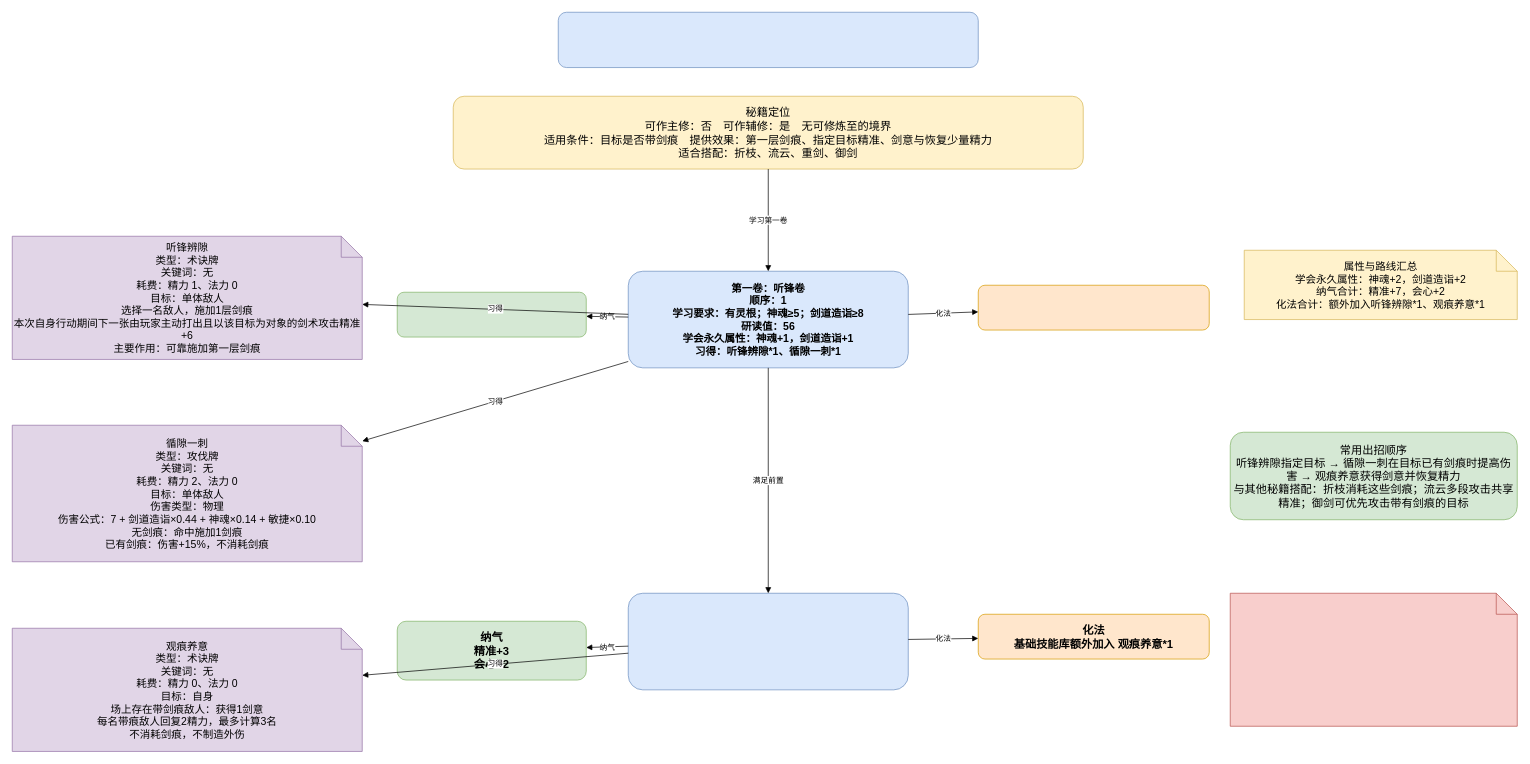
The diagram is 1530 pixels wide and 764 high, and some of its shapes have lost their labels. The centre of each missing label's shape, as x and y in pixels:
"化法 基础技能库额外加入 听锋辨隙*1" goes at (1093,307).
"听锋寻隙篇 仅辅修 · 识破剑诀 · 神魂/剑道造诣" goes at (768,40).
"状态与关联 剑痕：敌方状态；听锋辨隙施加1层，循隙一刺可利用。 剑意：自身增益；观痕养意按场上带剑痕目标获得。" goes at (1373,659).
"第二卷：观隙卷 顺序：2 学习要求：已学听锋卷；神魂≥8；剑道造诣≥12 研读值：84 学会永久属性：神魂+1，剑道造诣+1 习得：观痕养意*1" goes at (768,641).
"纳气 精准+4" goes at (491,314).
